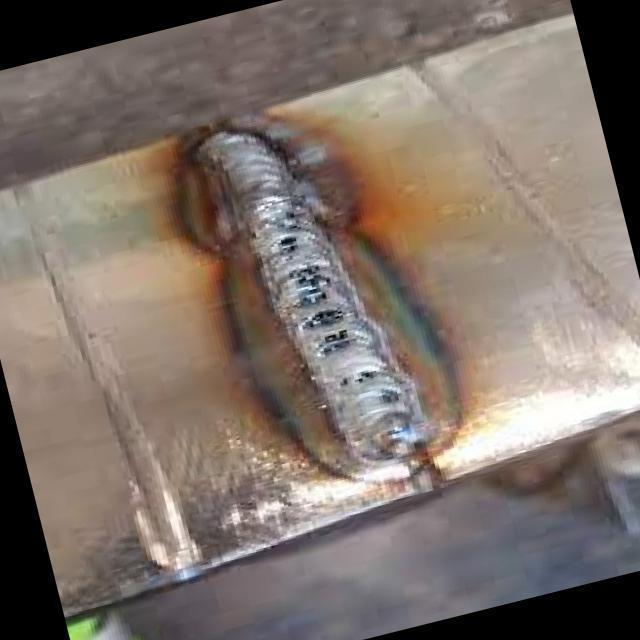defect: (283, 260, 340, 316), (298, 302, 351, 334), (312, 324, 352, 358), (340, 365, 379, 388), (268, 233, 303, 257)
